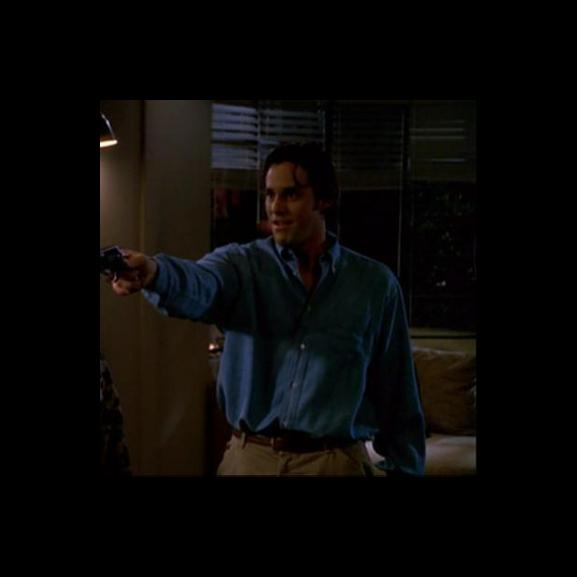hand: (252, 115, 294, 162)
